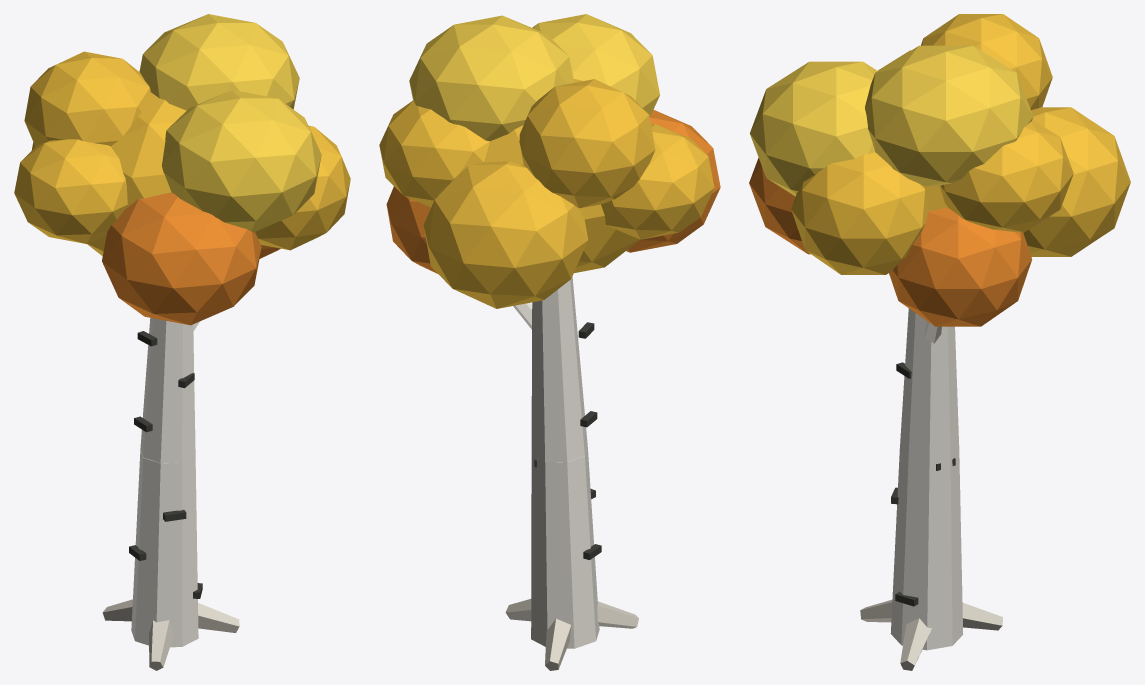
Rendered from tree-birch-autumn.glb.
3 renders of one model, left to right at view 1: azimuth 30°, elevation 25°; view 2: azimuth 150°, elevation 25°; view 3: azimuth 270°, elevation 25°, orthographic. The views are drawn at different scales.
Visible parts, largest first — view 1: BirchAutumn_Crown, BirchAutumn_Trunk; view 2: BirchAutumn_Crown, BirchAutumn_Trunk; view 3: BirchAutumn_Crown, BirchAutumn_Trunk.
Part boxes in pixels (left/top/right/bottom): BirchAutumn_Crown: left=14, top=14, right=350, bottom=325; BirchAutumn_Trunk: left=102, top=318, right=239, bottom=670; BirchAutumn_Crown: left=379, top=14, right=720, bottom=308; BirchAutumn_Trunk: left=505, top=276, right=638, bottom=670; BirchAutumn_Crown: left=749, top=14, right=1130, bottom=326; BirchAutumn_Trunk: left=860, top=308, right=1002, bottom=670.
Size of the model in its own units: 1.34 by 2.65 by 1.48.
